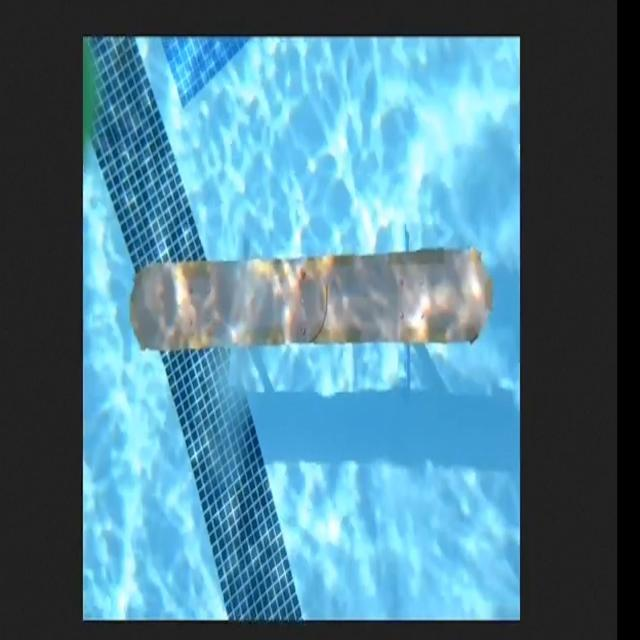Path: (132, 243, 493, 350)
